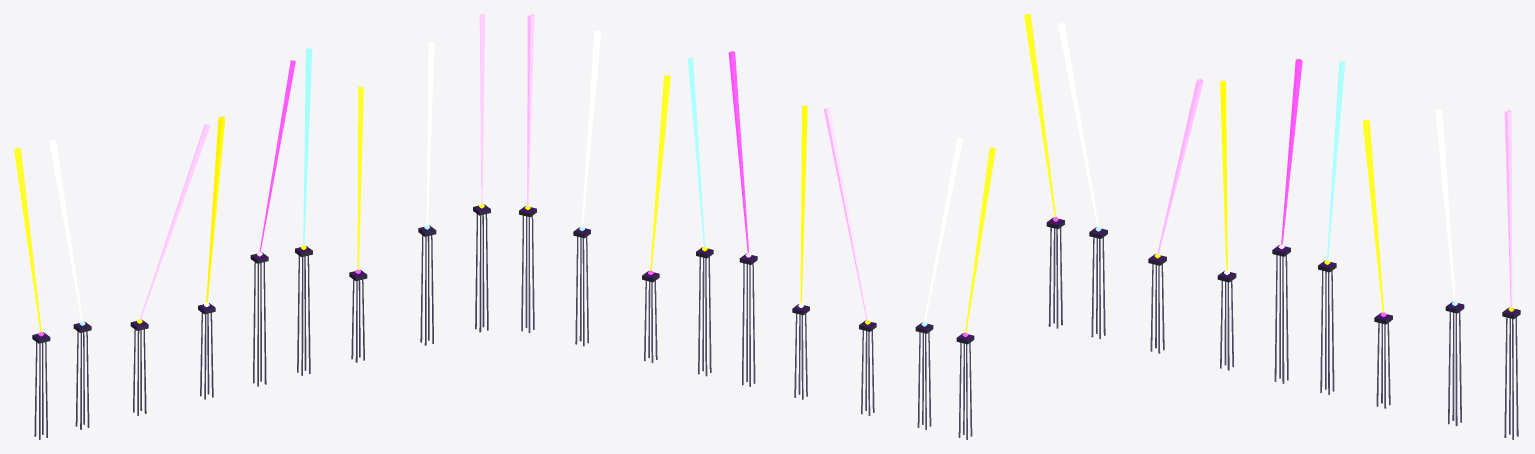
Rendered from W6_Far_LightTowers.fbx.
3 views of the same model, side by side, from view 1: azimuth 30°, elevation 25°; view 2: azimuth 150°, elevation 25°; view 3: azimuth 330°, elevation 25° (orthographic). The views are drawn at different scales.
Visible parts, largest first — view 1: W6_Far_LightTowers; view 2: W6_Far_LightTowers; view 3: W6_Far_LightTowers.
Boxes of the visible parts, x1,y1,x2,y2 form: W6_Far_LightTowers: (14,14,490,439); W6_Far_LightTowers: (519,14,995,439); W6_Far_LightTowers: (1024,14,1520,439).
Size of the model in its own units: 500 by 325 by 38.65.
